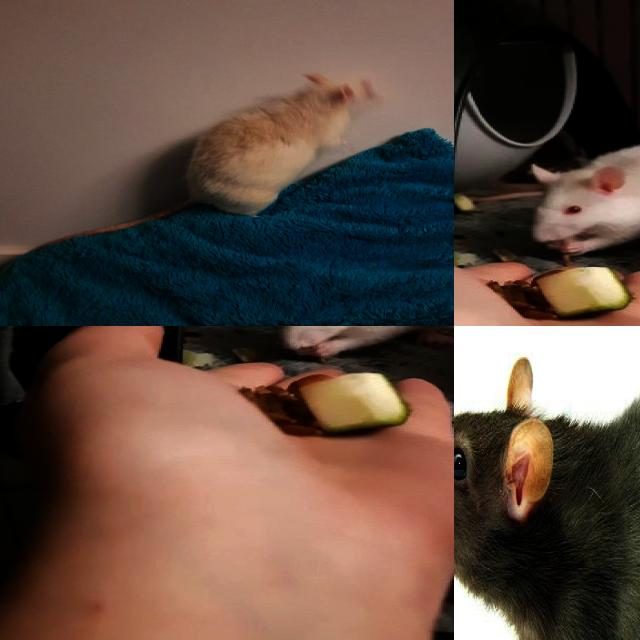rat: (454, 351, 640, 640), (182, 73, 381, 218), (525, 145, 640, 257), (260, 326, 454, 359)
